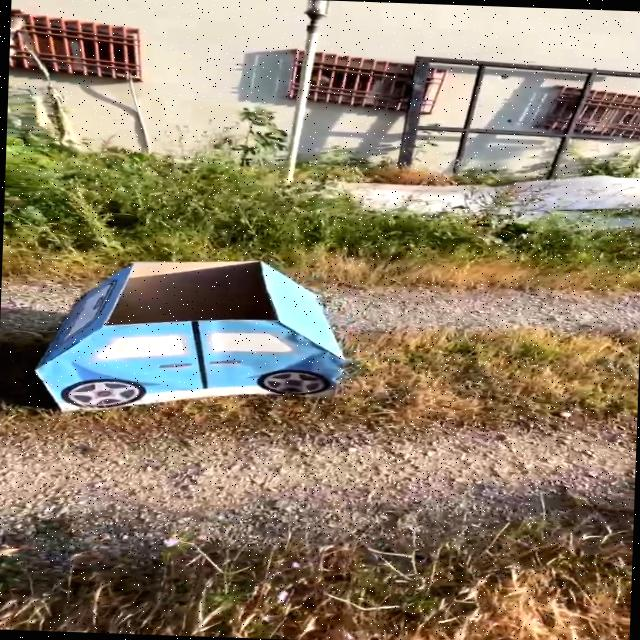blue_car: (0, 226, 415, 439)
